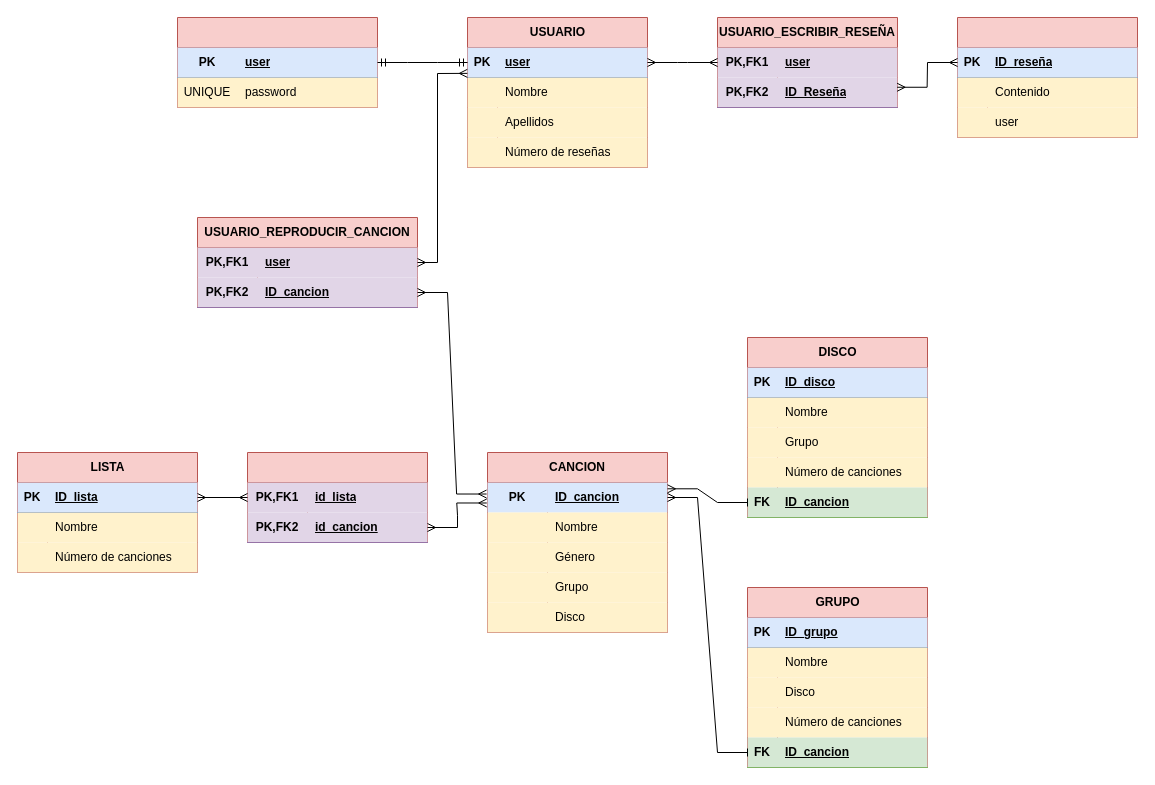
The diagram is 1155 pixels wide and 785 high, and some of its shapes have lost their labels. Each missing label, with the box of its shape:
AUTENTIFICACION: (176, 16, 378, 108)
LISTA_CANCION: (246, 452, 428, 542)
RECOMENDACION: (956, 16, 1138, 138)
